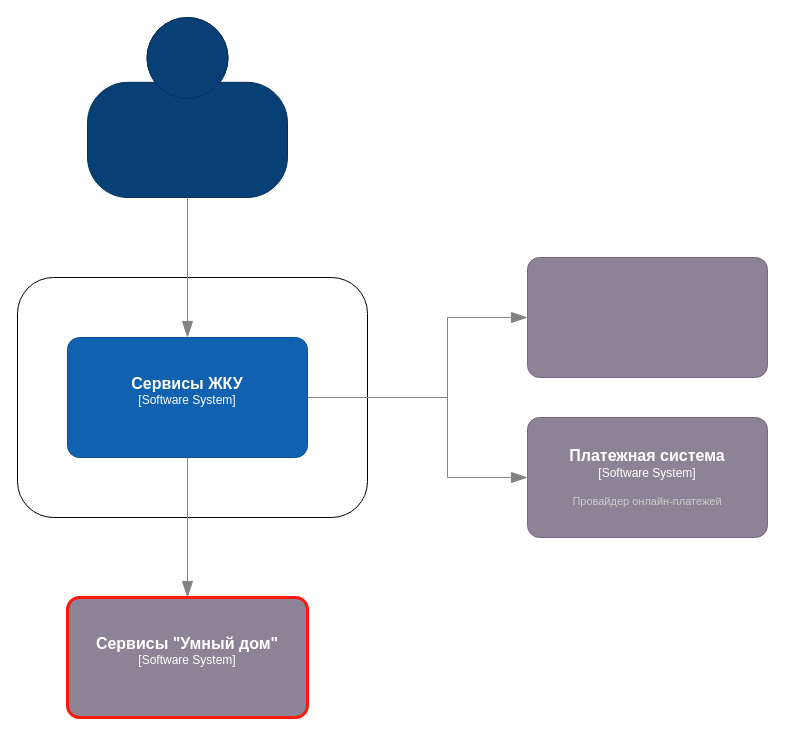
Some shapes in this 785 by 736 pixel diagram are drawn without their labels. Here are the shapes that lost their labels. From the top down, the centre of each, then its label:
At (x=187, y=107): "Собственник [Person] Клиент".
At (x=647, y=317): "Поставщики ресурсов ЖКХ [Software System]".
